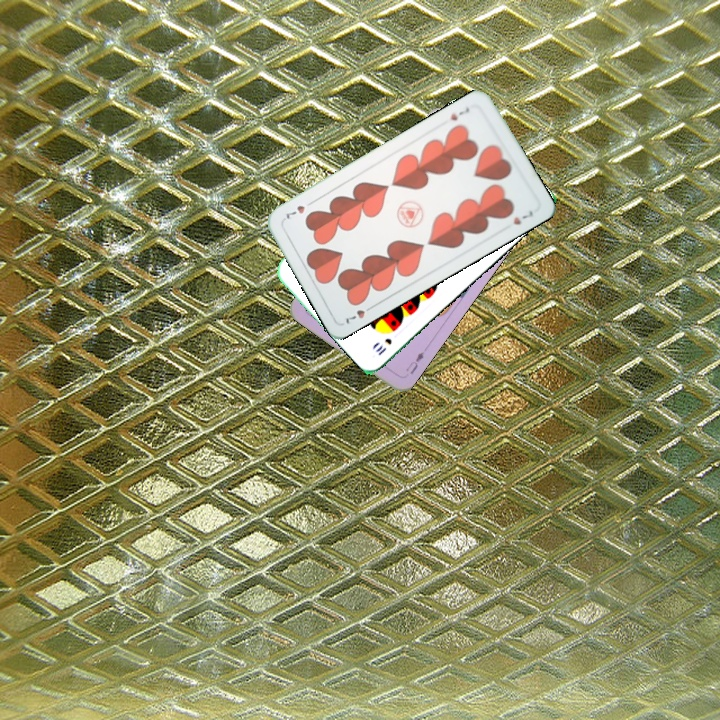EU: (401, 348, 427, 377)
H7: (341, 301, 377, 327), (445, 103, 472, 123)
S10: (371, 334, 394, 358)
